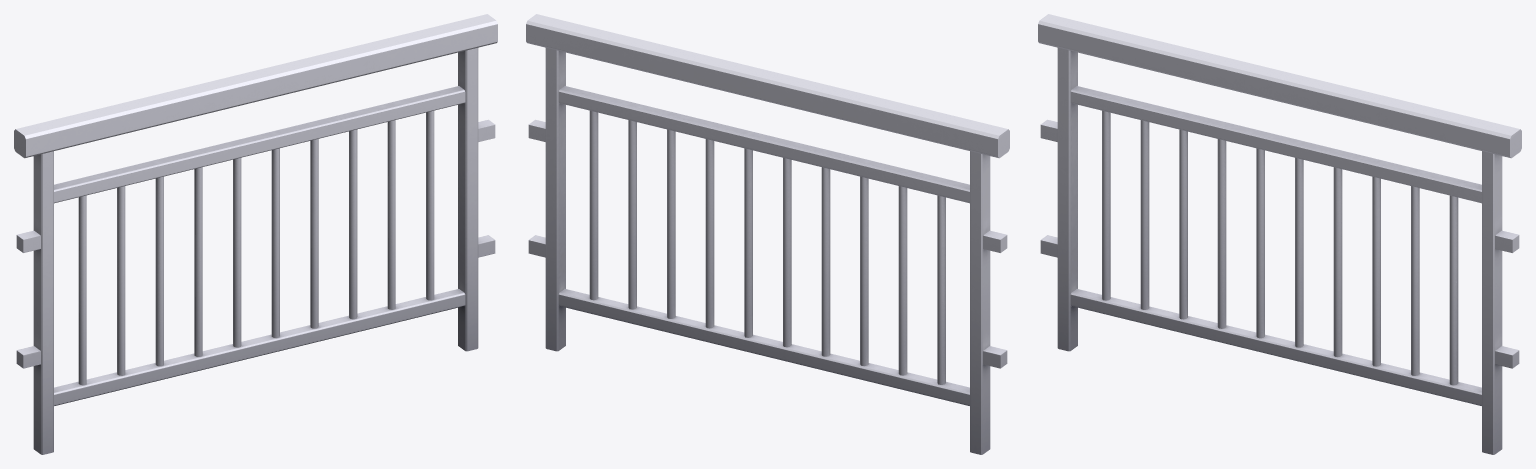
Rendered from sm_weilan.fbx.
The picture shows the model from 3 angles, left to right: view 1: azimuth 30°, elevation 25°; view 2: azimuth 150°, elevation 25°; view 3: azimuth 330°, elevation 25°; orthographic projection.
Visible parts, largest first — view 1: sm_weilan; view 2: sm_weilan; view 3: sm_weilan.
Boxes of the visible parts, x1,y1,x2,y2 form: sm_weilan: (14, 14, 497, 454); sm_weilan: (526, 14, 1009, 454); sm_weilan: (1038, 14, 1521, 454).
Bounding box in the file's own units: 2 × 1.31 × 0.0864.
